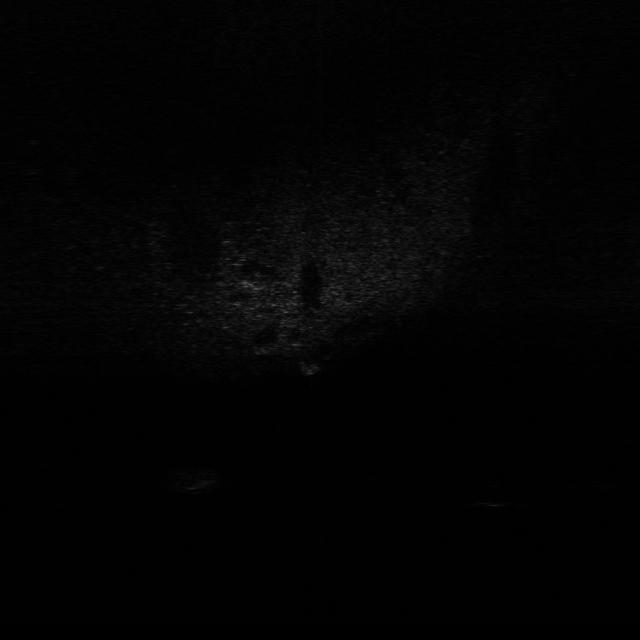ball: (468, 479, 516, 512)
circle cage: (158, 457, 234, 499)
cube: (288, 354, 324, 380)
